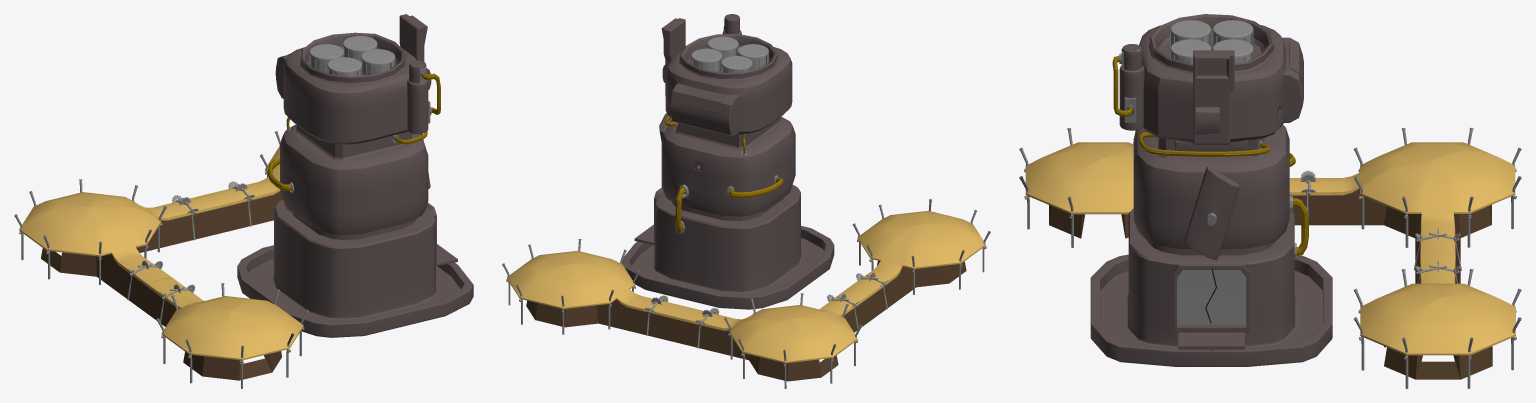
The model's file is hubv2Ghost.fbx.
3 views of the same model, side by side, from view 1: azimuth 30°, elevation 25°; view 2: azimuth 150°, elevation 25°; view 3: azimuth 270°, elevation 25° (orthographic). The views are drawn at different scales.
Visible parts, largest first — view 1: hub:polySurface112_polySurface112; view 2: hub:polySurface112_polySurface112; view 3: hub:polySurface112_polySurface112.
Boxes of the visible parts, <box> form: hub:polySurface112_polySurface112: <box>14,14,473,388</box>; hub:polySurface112_polySurface112: <box>502,14,990,388</box>; hub:polySurface112_polySurface112: <box>1019,14,1521,388</box>.
Bounding box in the file's own units: 232 × 152 × 232.
